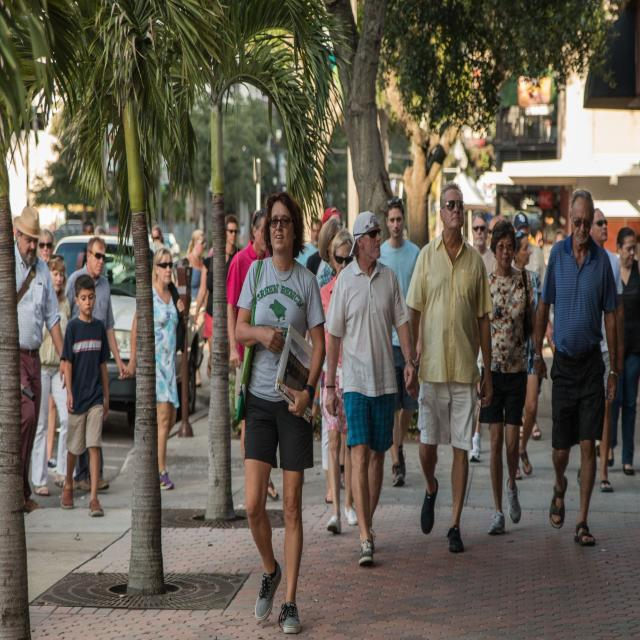body: (233, 188, 326, 638), (401, 180, 494, 555), (324, 209, 416, 568), (533, 184, 621, 549), (480, 216, 548, 538), (11, 203, 67, 512), (64, 236, 128, 492), (224, 207, 280, 499), (122, 245, 188, 491), (576, 208, 624, 496), (376, 197, 422, 488), (318, 230, 361, 533), (59, 272, 111, 518), (30, 254, 71, 497), (604, 223, 640, 476), (510, 229, 543, 479), (511, 211, 546, 441), (468, 207, 499, 463), (315, 217, 342, 505), (174, 227, 211, 390), (193, 251, 237, 380), (38, 228, 57, 472), (305, 206, 344, 277), (296, 218, 322, 268), (224, 213, 242, 281), (530, 224, 565, 252), (80, 216, 106, 241), (633, 226, 640, 266), (152, 225, 164, 245), (77, 245, 86, 269)
